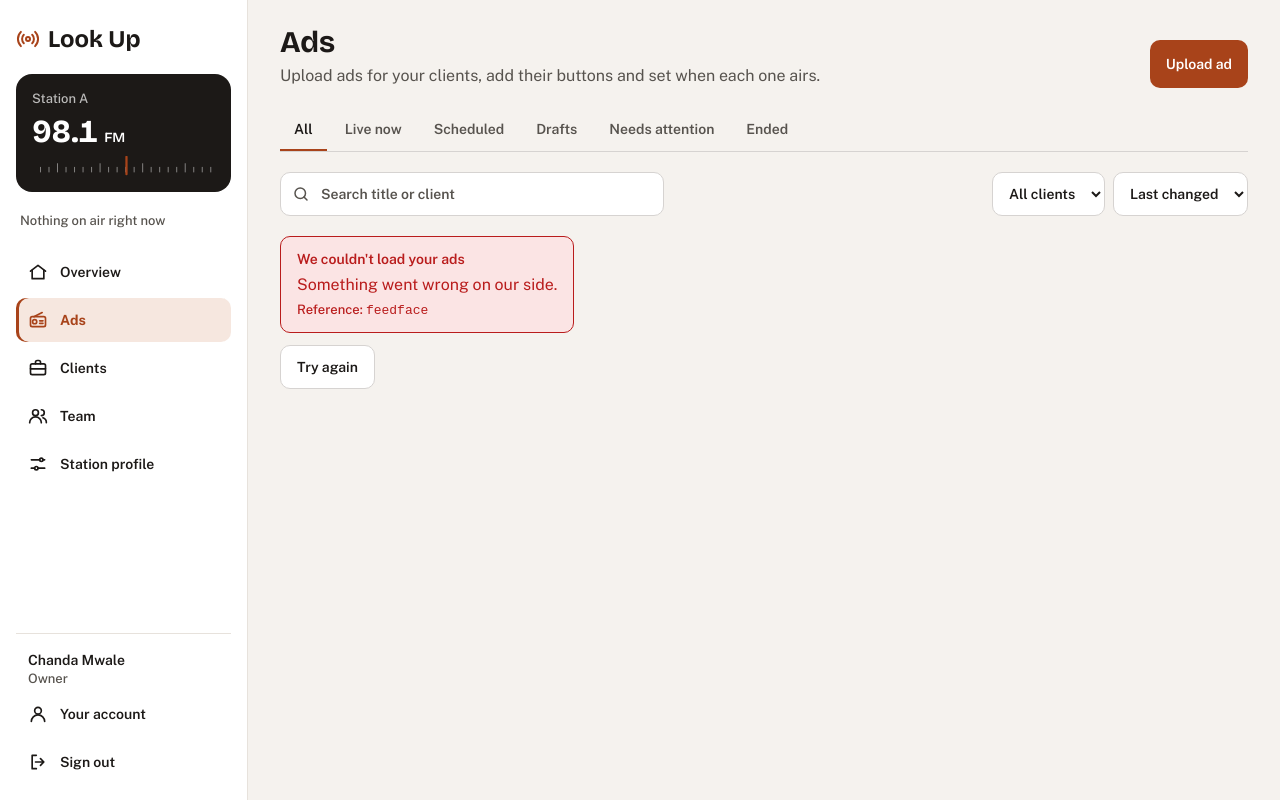
Ads list › states › explains a failure in plain words with its reference, and tries again on request
Expected: the message shows "We couldn't load your ads", 297,251 -> 465,267
Expected: the message shows "Reference: feedface", 280,236 -> 574,333
What coordinates should you click on to do the following:
click the button "Try again"
I would click on:
 (328, 367)
Its box is 280,345 -> 375,389.
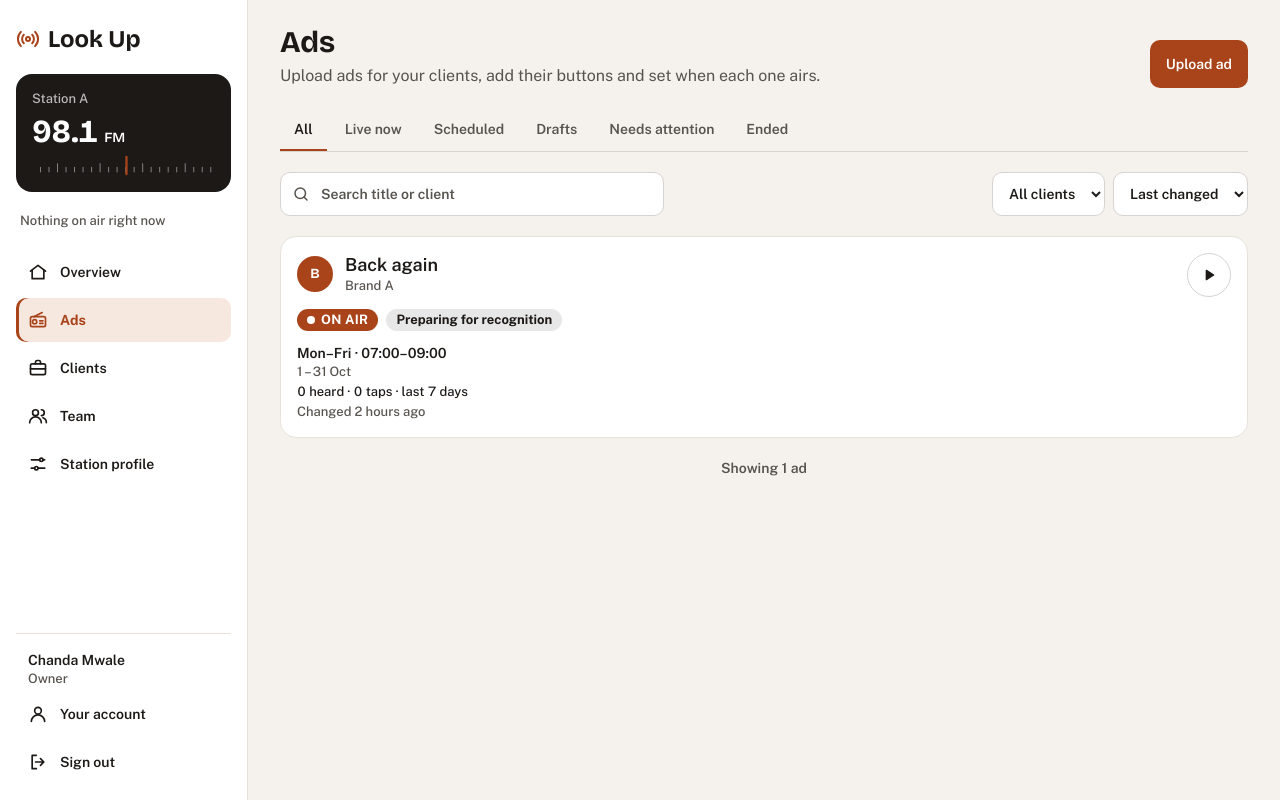
Now the link "Back again" is shown, box 345,254 -> 438,275
